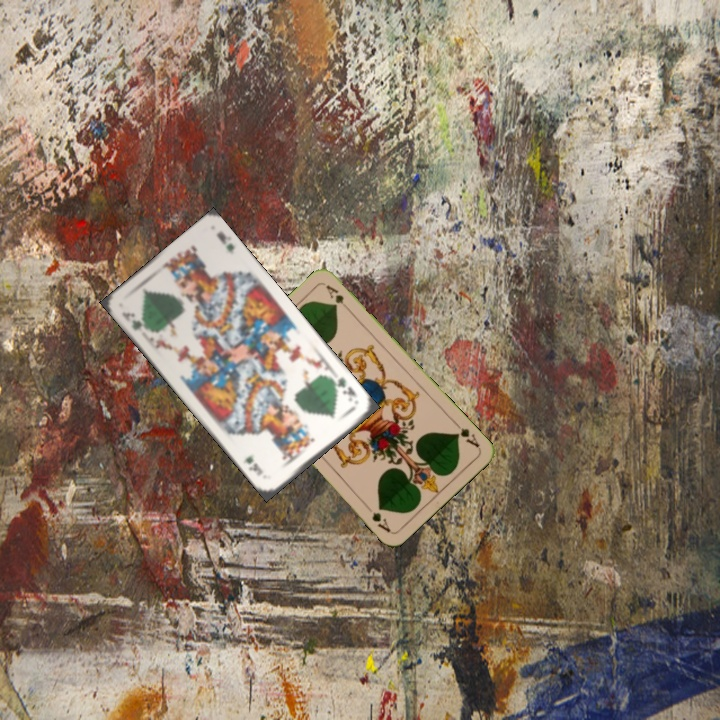GA: (450, 418, 482, 450)
GK: (327, 373, 359, 404), (118, 308, 151, 334)
